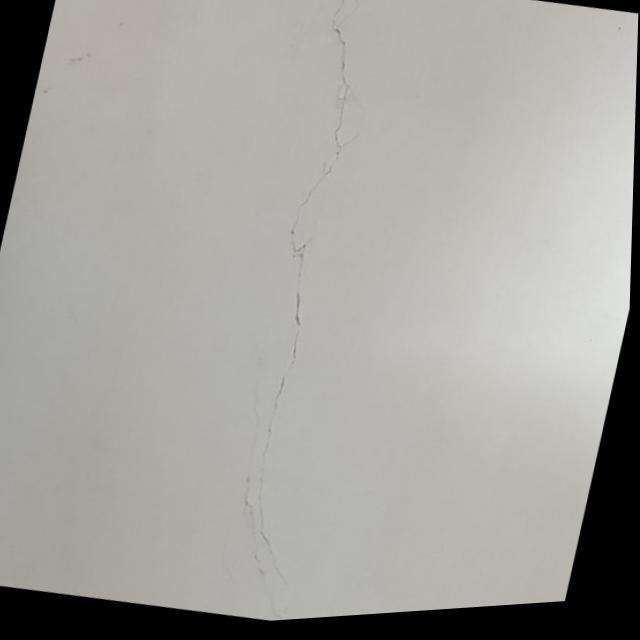Crack: (246, 9, 355, 584)
